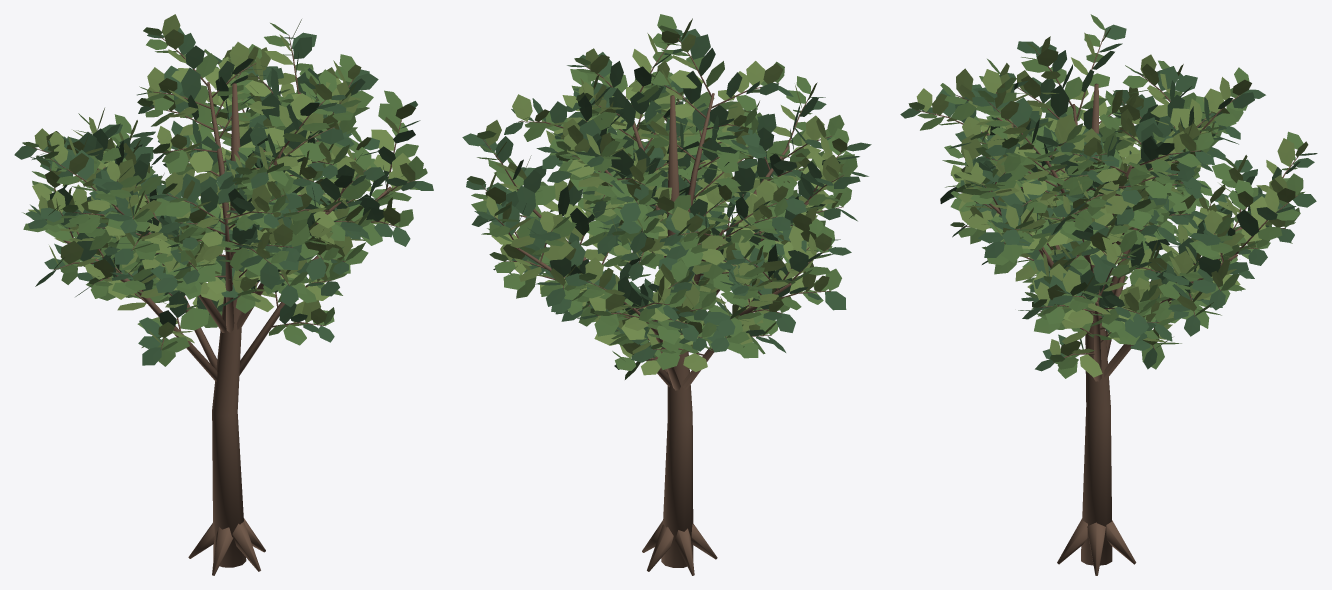
File: rpg-mansion-garden-broad-canopy-tree-01.glb
3 renders of one model, left to right at view 1: azimuth 30°, elevation 25°; view 2: azimuth 150°, elevation 25°; view 3: azimuth 270°, elevation 25°, orthographic. The views are drawn at different scales.
Visible parts, largest first — view 1: rpg-mansion-garden-broad-canopy-tree-01; view 2: rpg-mansion-garden-broad-canopy-tree-01; view 3: rpg-mansion-garden-broad-canopy-tree-01.
Boxes of the visible parts, left/top/right/bottom form: rpg-mansion-garden-broad-canopy-tree-01: left=14, top=14, right=433, bottom=575; rpg-mansion-garden-broad-canopy-tree-01: left=462, top=14, right=871, bottom=575; rpg-mansion-garden-broad-canopy-tree-01: left=900, top=14, right=1317, bottom=575.
Bounding box in the file's own units: 2.46 × 3.04 × 2.26.
